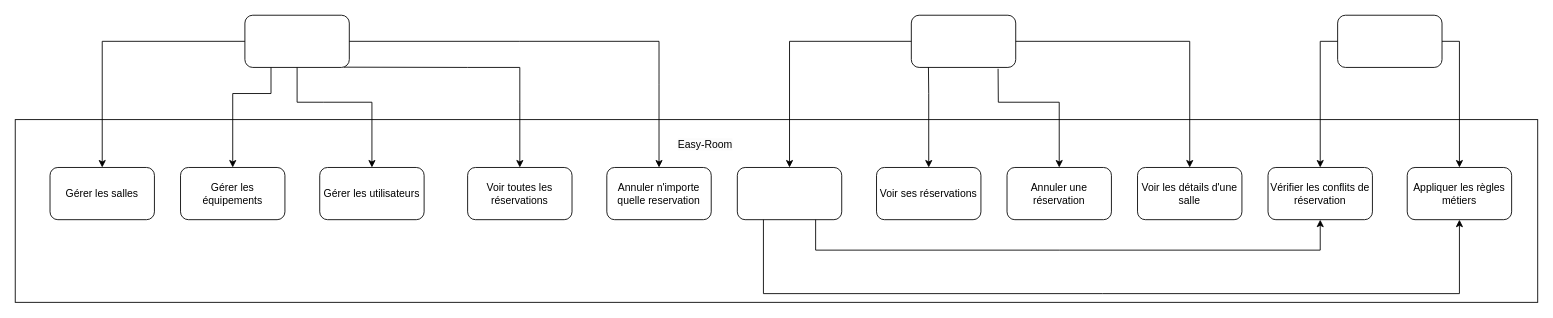
The diagram is 1553 pixels wide and 318 high, and some of its shapes have lost their labels. The shapes that lost their labels are listed below. From the top down, each one's centre as x and y in pixels, then its label:
At point (296, 40): "Administrateur".
At point (963, 40): "Utilisateur".
At point (1389, 40): "Système".
At point (789, 193): "Réserver une salle".
